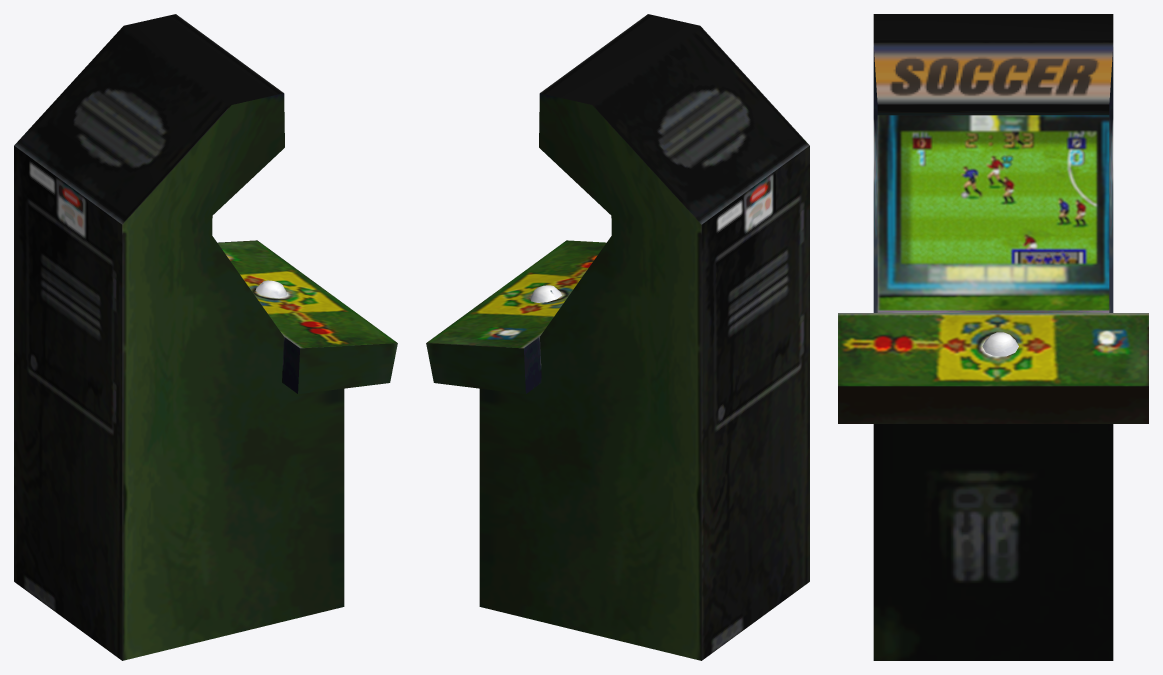
The model's file is Furniture_Arcade1.fbx.
The picture shows the model from 3 angles, left to right: view 1: azimuth 30°, elevation 25°; view 2: azimuth 150°, elevation 25°; view 3: azimuth 270°, elevation 25°; orthographic projection. The views are drawn at different scales.
Parts seen in each view (by area): view 1: Empty_Mesh; view 2: Empty_Mesh; view 3: Empty_Mesh.
Part boxes in pixels (x1=…): Empty_Mesh: x1=14, y1=14, x2=397, y2=660; Empty_Mesh: x1=426, y1=14, x2=809, y2=660; Empty_Mesh: x1=838, y1=14, x2=1148, y2=660.
Size of the model in its own units: 83154 by 162062 by 77909.
